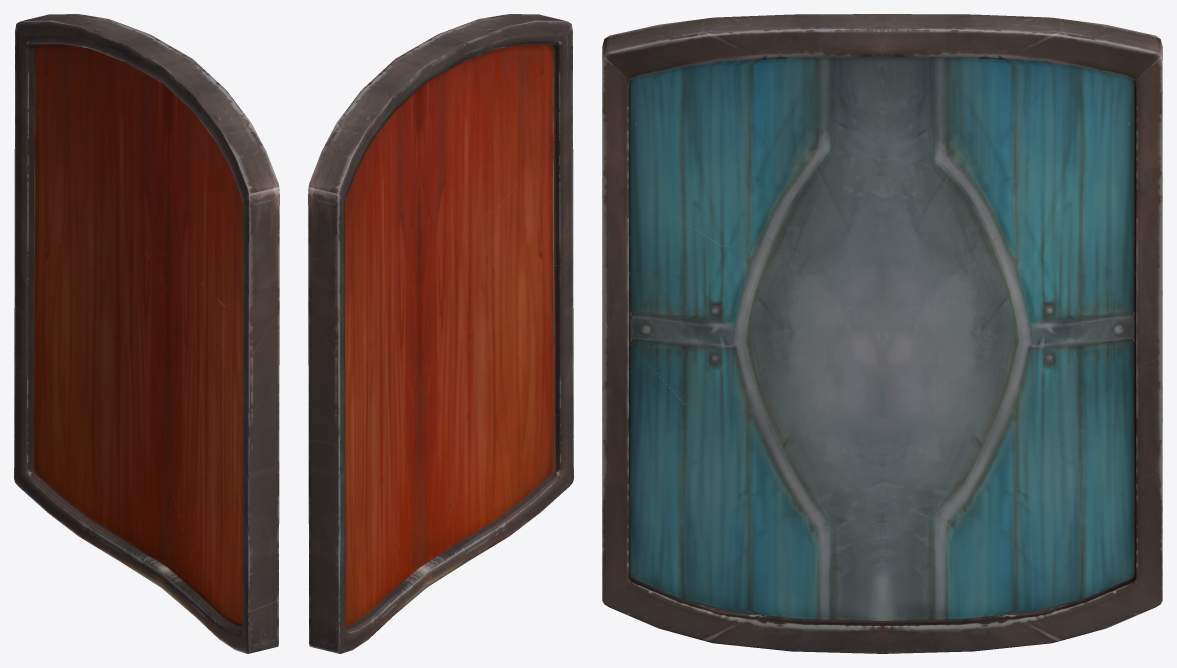
File: escudo_partes.glb
3 renders of one model, left to right at view 1: azimuth 30°, elevation 25°; view 2: azimuth 150°, elevation 25°; view 3: azimuth 270°, elevation 25°, orthographic. The views are drawn at different scales.
Visible parts, largest first — view 1: Escudo_cell.002, Escudo_cell.006, Escudo_cell.009, Escudo_cell.005, Escudo_cell.008, Escudo_cell.012, Escudo_cell.003, Escudo_cell.004, Escudo_cell.001, Escudo_cell.010, Escudo_cell.013, Escudo_cell.007 (+3 smaller); view 2: Escudo_cell.009, Escudo_cell.002, Escudo_cell.006, Escudo_cell.004, Escudo_cell.013, Escudo_cell.008, Escudo_cell, Escudo_cell.007, Escudo_cell.005, Escudo_cell.003, Escudo_cell.001, Escudo_cell.010 (+3 smaller); view 3: Escudo_cell.002, Escudo_cell.009, Escudo_cell.006, Escudo_cell.008, Escudo_cell.013, Escudo_cell.004, Escudo_cell.001, Escudo_cell.012, Escudo_cell.005, Escudo_cell.007, Escudo_cell, Escudo_cell.011 (+3 smaller).
Part boxes in pixels (x1,y1,x2,y2): Escudo_cell.002: (15,14,213,252); Escudo_cell.006: (14,93,144,375); Escudo_cell.009: (153,79,279,305); Escudo_cell.005: (14,273,125,419); Escudo_cell.008: (129,252,220,434); Escudo_cell.012: (30,418,136,570); Escudo_cell.003: (233,410,279,611); Escudo_cell.004: (220,290,279,452); Escudo_cell.001: (105,376,184,568); Escudo_cell.010: (14,368,98,496); Escudo_cell.013: (195,475,278,653); Escudo_cell.007: (146,247,224,418); Escudo_cell.009: (407,14,572,266); Escudo_cell.002: (308,43,452,284); Escudo_cell.006: (308,257,399,444); Escudo_cell.004: (492,126,573,333); Escudo_cell.013: (453,421,573,527); Escudo_cell.008: (388,283,493,424); Escudo_cell: (450,330,569,434); Escudo_cell.007: (401,207,498,327); Escudo_cell.005: (308,432,385,543); Escudo_cell.003: (518,242,573,439); Escudo_cell.001: (374,432,440,602); Escudo_cell.010: (309,507,369,653); Escudo_cell.002: (824,14,1162,267); Escudo_cell.009: (602,14,915,256); Escudo_cell.006: (935,140,1162,427); Escudo_cell.008: (732,265,967,439); Escudo_cell.013: (602,475,808,636); Escudo_cell.004: (602,179,734,404); Escudo_cell.001: (837,425,1014,652); Escudo_cell.012: (944,487,1147,652); Escudo_cell.005: (976,357,1162,497); Escudo_cell.007: (723,246,928,381); Escudo_cell: (615,389,812,532); Escudo_cell.011: (793,419,972,567).
Bounding box in the file's own units: 0.184 × 1.48 × 1.21.
2 materials, 1 textured.
